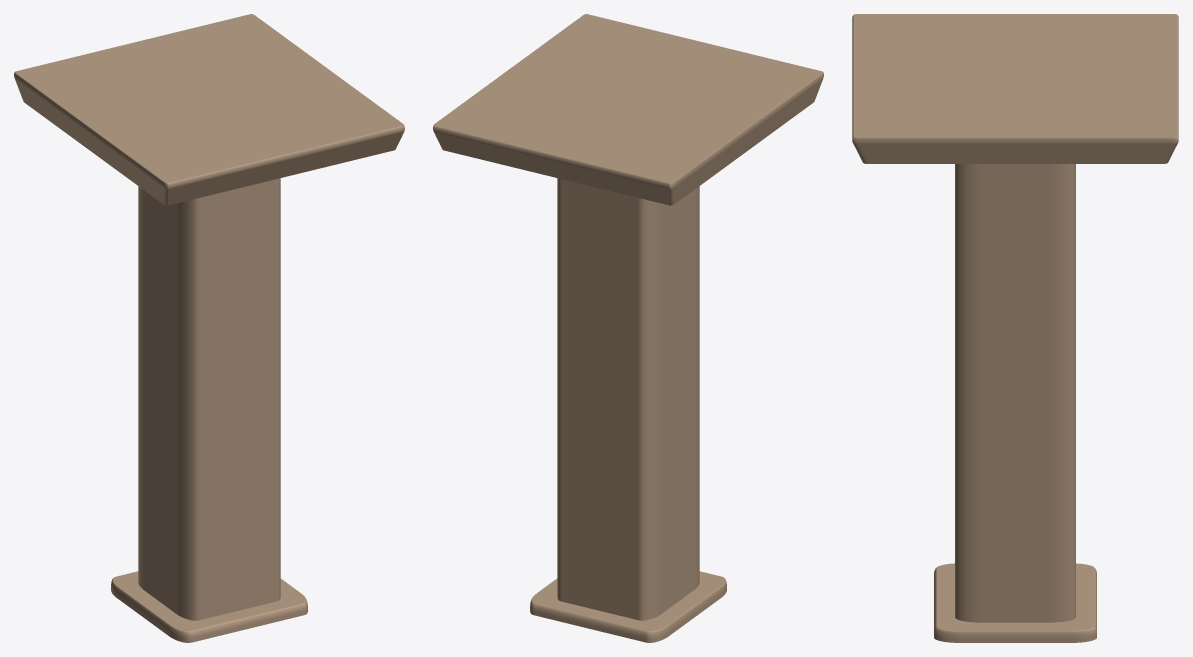
The model's file is StandingBarTable.dae.
The picture shows the model from 3 angles, left to right: view 1: azimuth 30°, elevation 25°; view 2: azimuth 150°, elevation 25°; view 3: azimuth 270°, elevation 25°; orthographic projection. The views are drawn at different scales.
Parts seen in each view (by area): view 1: node_d6c2355a_a407_4235_aea8_3419df1c3eb9_mesh0; view 2: node_d6c2355a_a407_4235_aea8_3419df1c3eb9_mesh0; view 3: node_d6c2355a_a407_4235_aea8_3419df1c3eb9_mesh0.
Boxes of the visible parts, x1,y1,x2,y2 form: node_d6c2355a_a407_4235_aea8_3419df1c3eb9_mesh0: (14,14,404,642); node_d6c2355a_a407_4235_aea8_3419df1c3eb9_mesh0: (433,14,823,642); node_d6c2355a_a407_4235_aea8_3419df1c3eb9_mesh0: (852,14,1178,642).
Size of the model in its own units: 0.45 by 0.4999 by 0.9.
